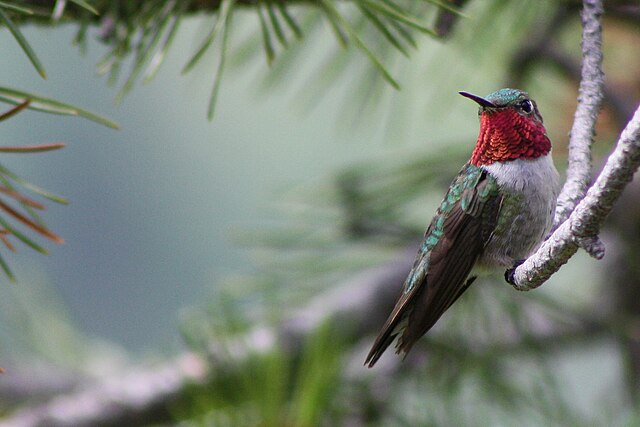selasphorus platycercus: (364, 87, 556, 370)
